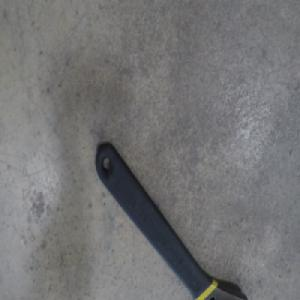AdjustableWrench: (93, 145, 248, 300)
